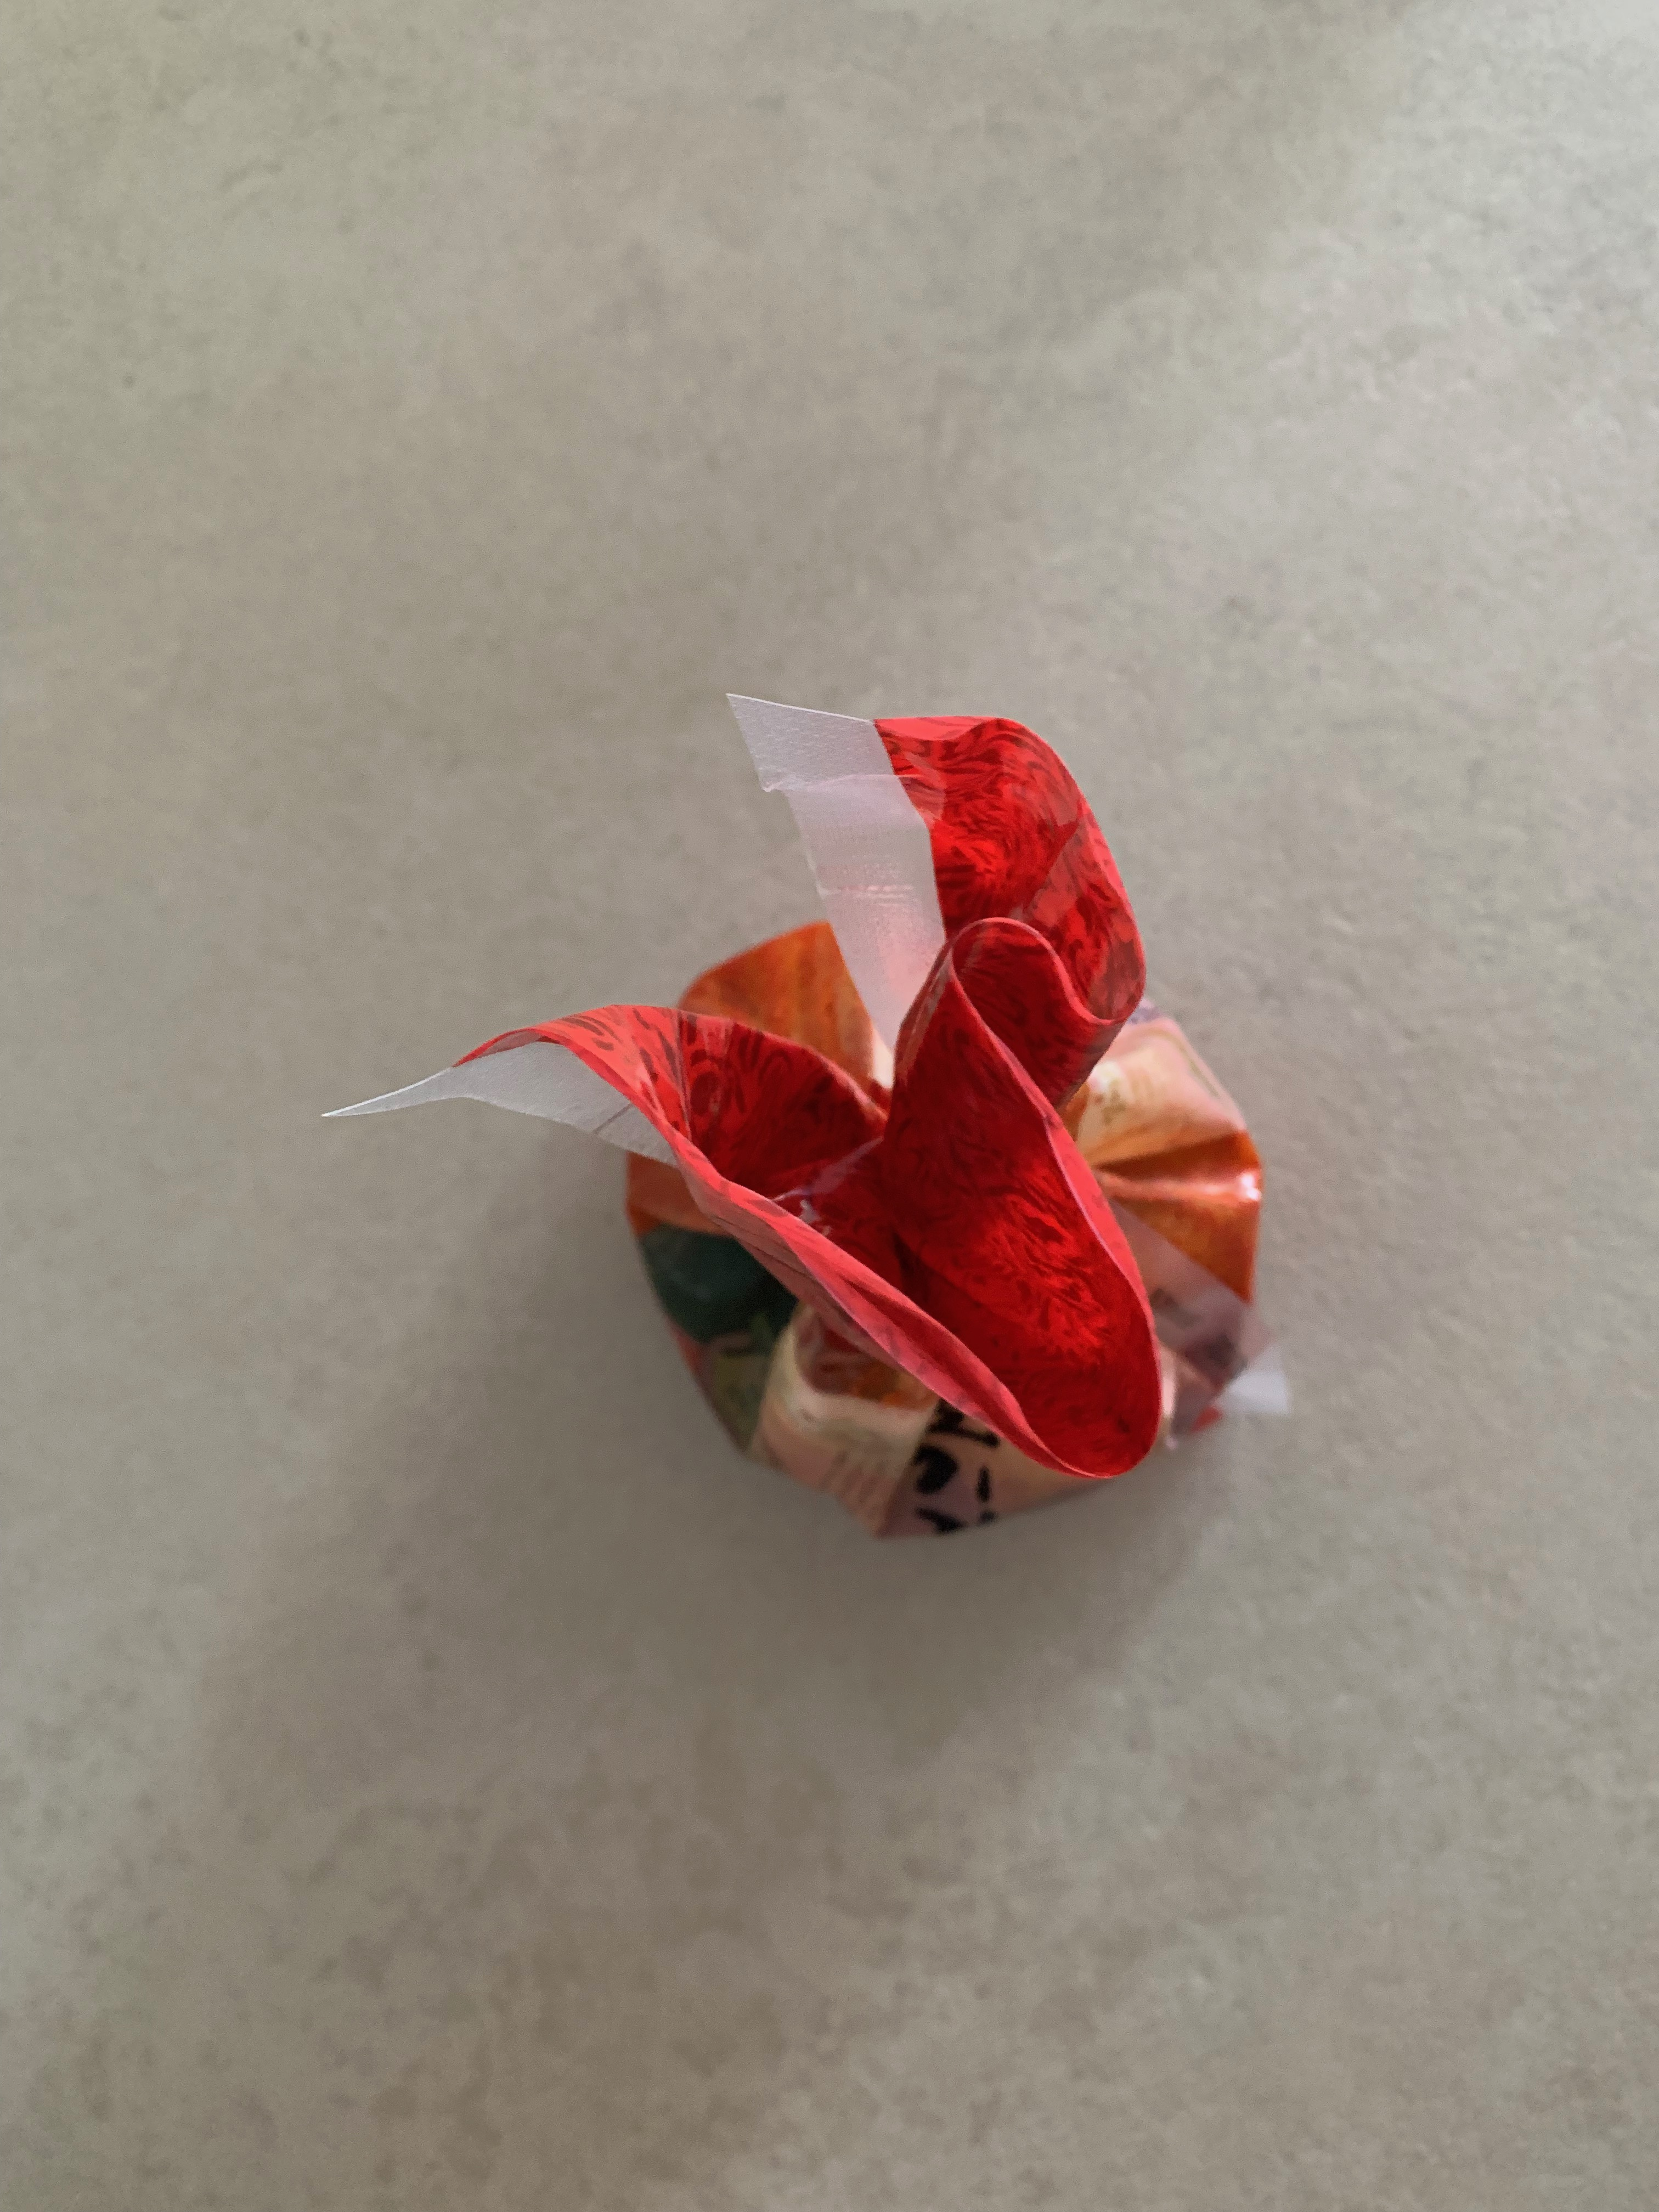kimchi: (547, 719, 1269, 1540)
